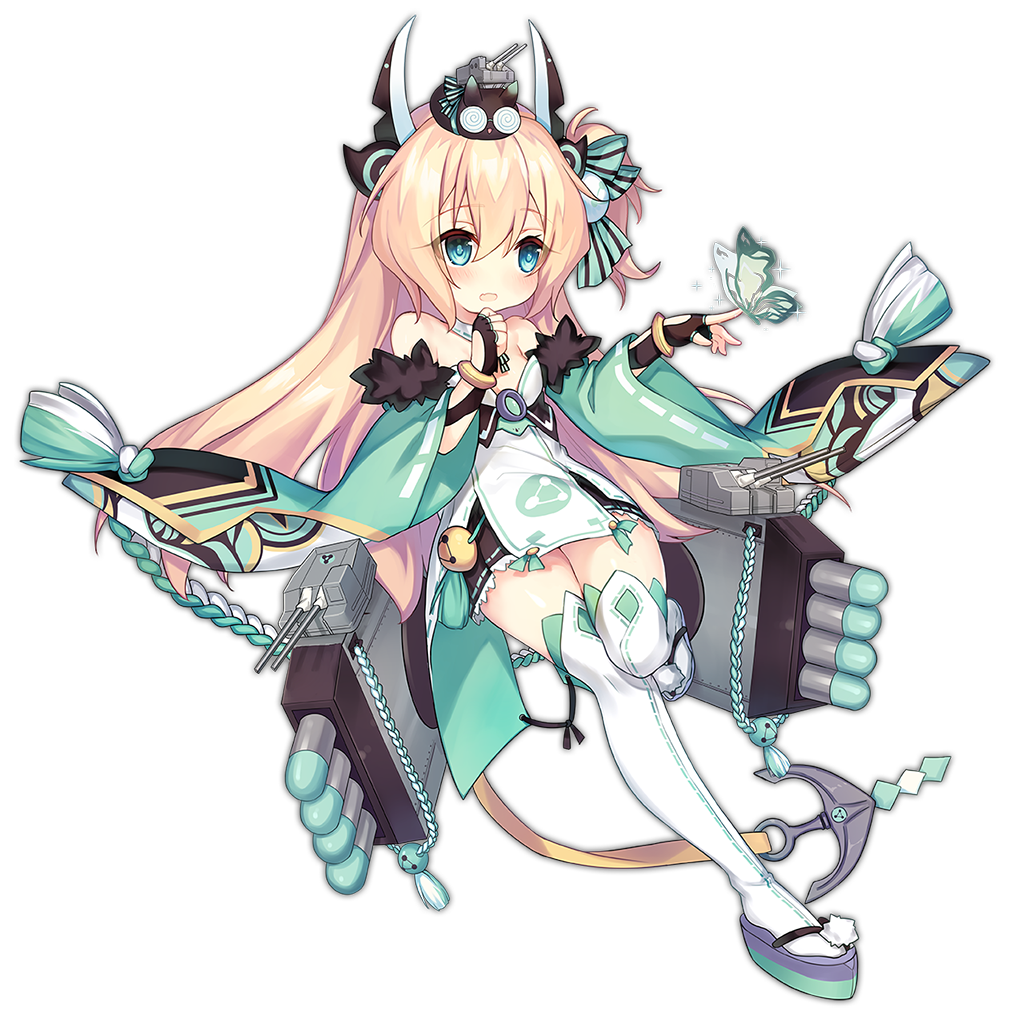person: (185, 98, 884, 994)
